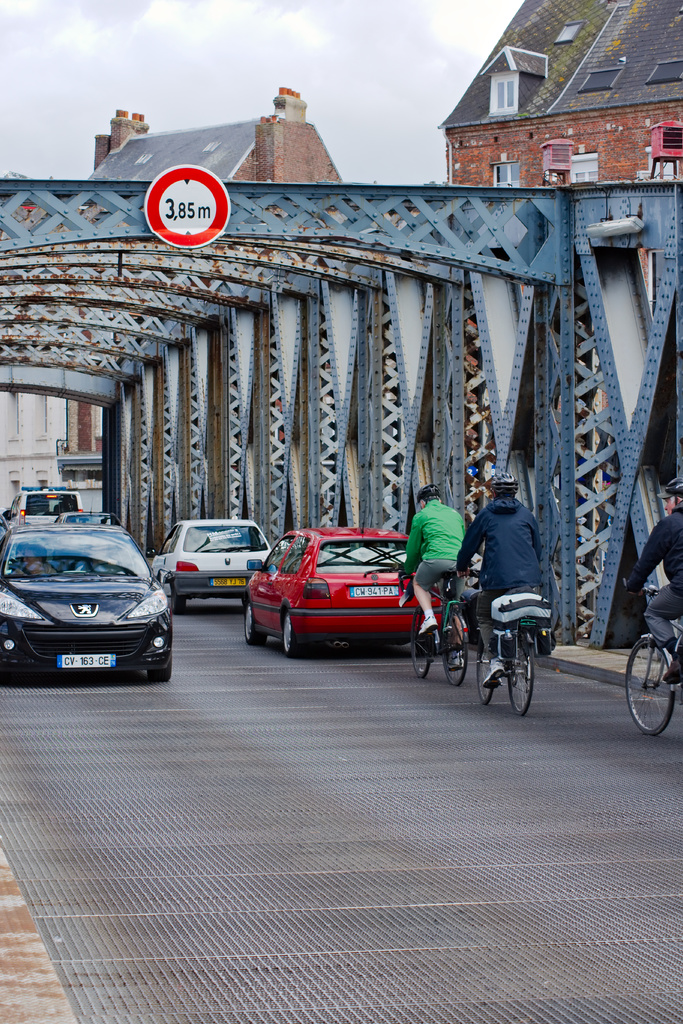Bike: (452, 601, 535, 723), (391, 579, 468, 688)
